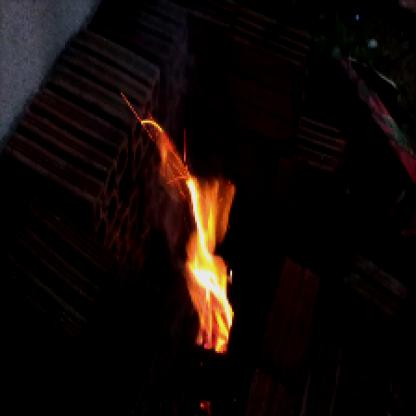Fire: (123, 89, 243, 355)
